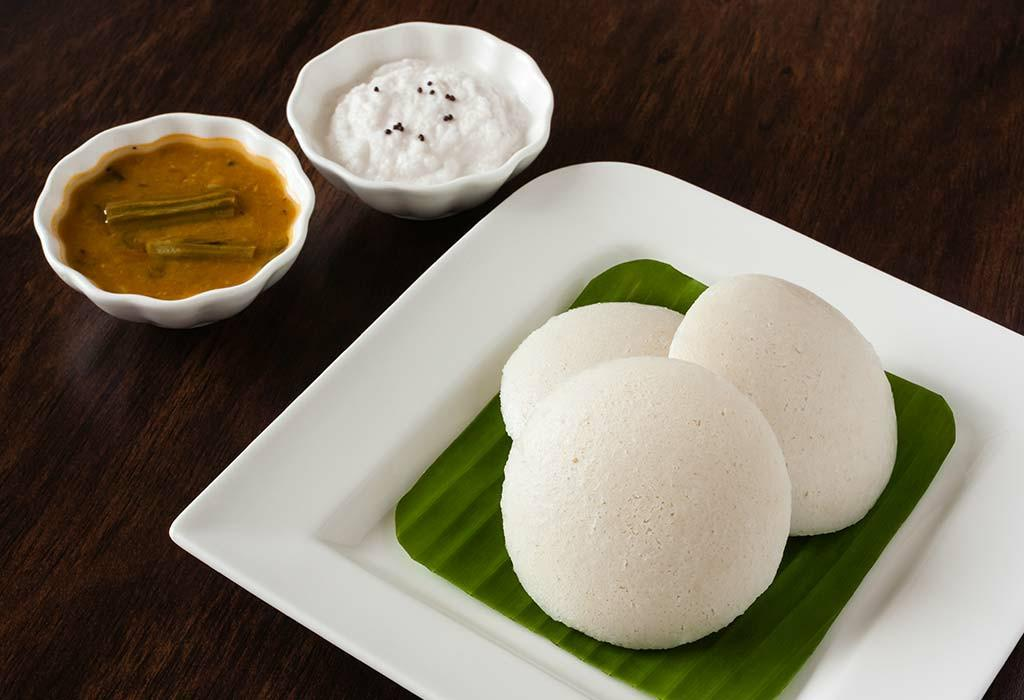Idli: (498, 354, 793, 651), (672, 273, 902, 537), (499, 301, 686, 435)
